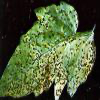Tomato Septoria leaf spot: (1, 3, 99, 100)
